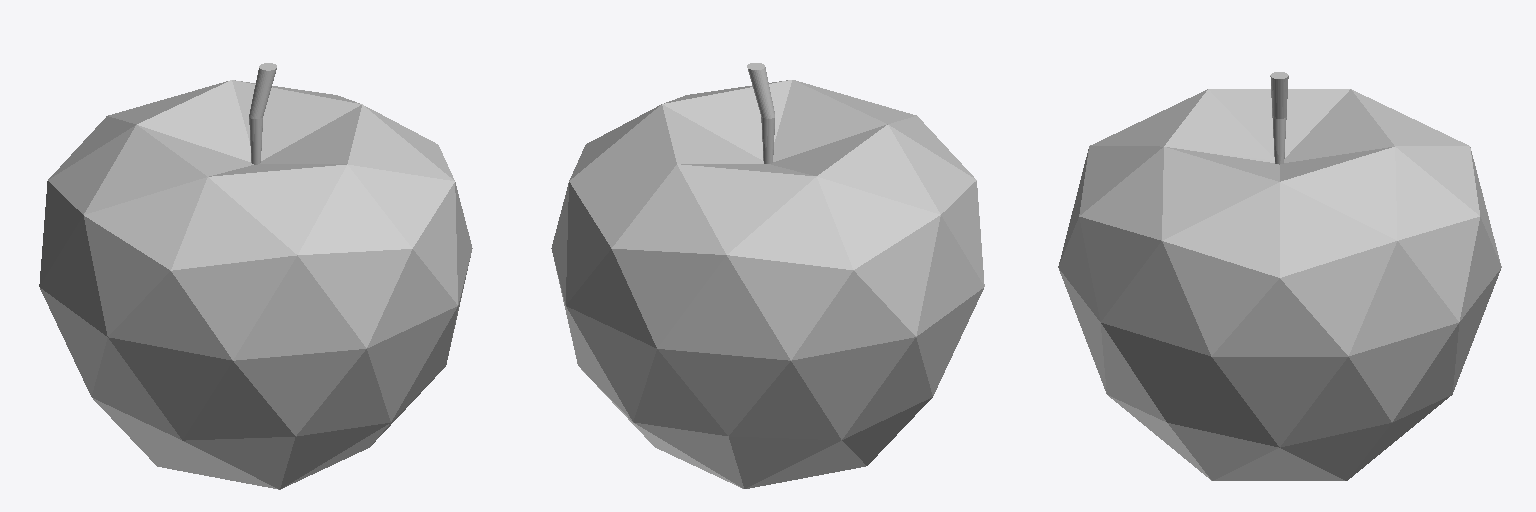
Rendered from japco.obj.
3 views of the same model, side by side, from view 1: azimuth 30°, elevation 25°; view 2: azimuth 150°, elevation 25°; view 3: azimuth 270°, elevation 25° (orthographic).
Visible parts, largest first — view 1: jablko_low_Baked; view 2: jablko_low_Baked; view 3: jablko_low_Baked.
Part boxes in pixels (x1,y1,x2,y2): jablko_low_Baked: (39,63,472,489); jablko_low_Baked: (551,63,984,488); jablko_low_Baked: (1058,72,1501,480).
Bounding box in the file's own units: 0.7099 × 0.6931 × 0.7474.